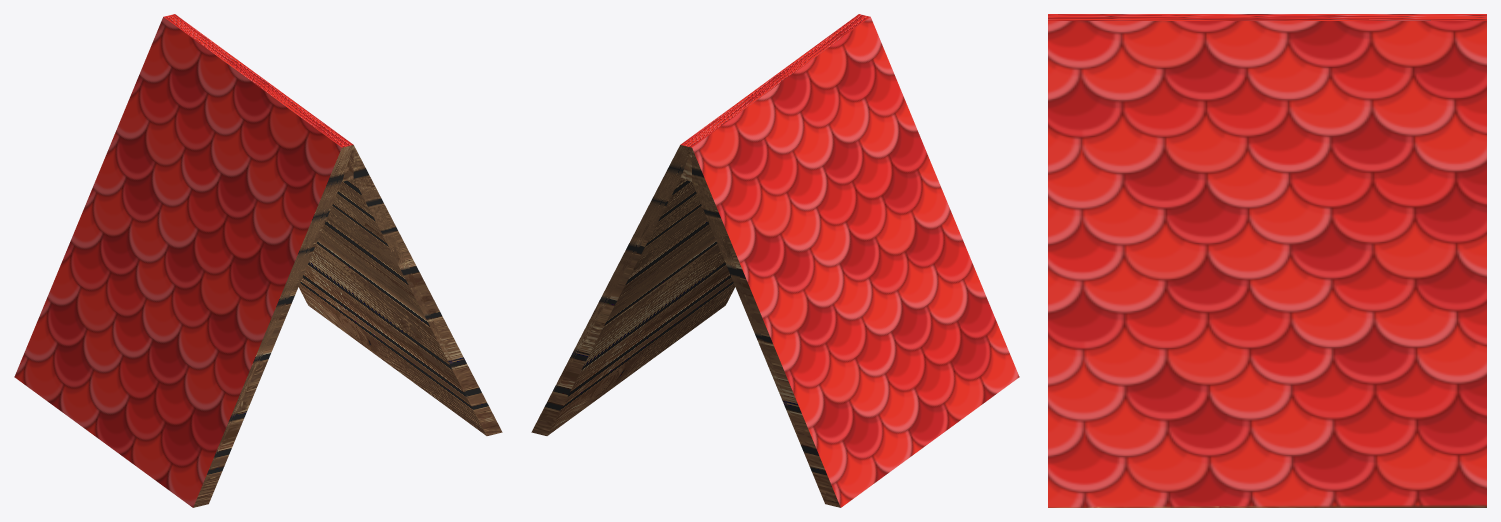
Rendered from smallroof.glb.
3 views of the same model, side by side, from view 1: azimuth 30°, elevation 25°; view 2: azimuth 150°, elevation 25°; view 3: azimuth 270°, elevation 25° (orthographic). The views are drawn at different scales.
Visible parts, largest first — view 1: SmallRoof; view 2: SmallRoof; view 3: SmallRoof.
Boxes of the visible parts, box(x1,y1,x2,y2) form: SmallRoof: box(14, 14, 502, 507); SmallRoof: box(531, 14, 1019, 507); SmallRoof: box(1048, 14, 1486, 507).
Bounding box in the file's own units: 2 × 2 × 2.
1 material, 1 textured.
